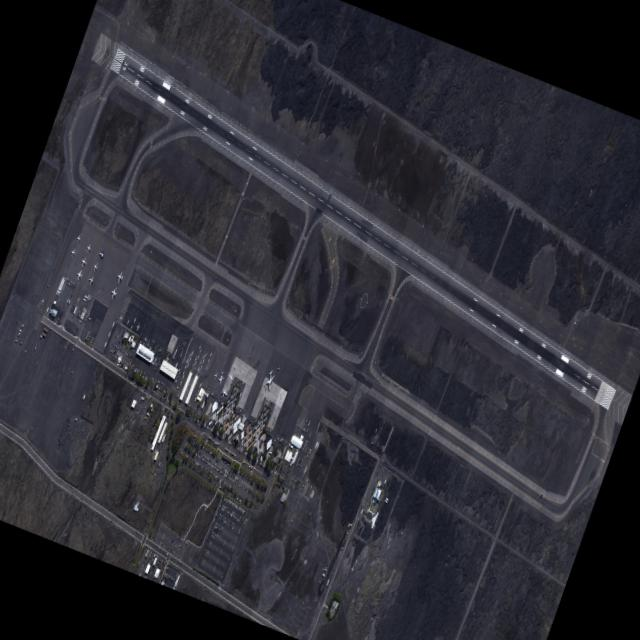large-vehicle: (75, 297, 78, 302)
plane: (263, 367, 274, 392), (217, 383, 228, 401), (214, 370, 224, 388), (107, 284, 117, 301), (224, 367, 234, 384), (95, 246, 105, 262), (113, 269, 123, 284), (78, 255, 86, 268), (74, 269, 82, 282), (90, 261, 97, 273), (86, 274, 93, 286), (68, 247, 75, 258), (84, 242, 90, 254), (74, 233, 80, 243), (211, 371, 217, 380), (134, 322, 138, 331), (39, 297, 43, 305), (131, 316, 135, 323), (125, 318, 128, 324), (187, 352, 190, 358), (180, 373, 183, 379), (129, 324, 132, 330), (190, 362, 193, 368), (208, 351, 211, 357), (189, 350, 192, 356), (192, 360, 195, 366), (198, 363, 201, 369), (200, 357, 203, 363), (196, 366, 199, 372), (197, 344, 200, 350), (197, 348, 200, 354), (195, 353, 198, 359), (187, 356, 190, 361), (185, 362, 188, 367), (185, 358, 188, 363), (182, 364, 185, 369), (180, 370, 183, 375), (178, 380, 181, 385), (206, 358, 209, 363), (193, 356, 196, 361), (198, 360, 201, 365), (203, 352, 205, 357), (201, 354, 203, 359)
ship: (266, 429, 269, 433), (280, 437, 282, 442), (279, 437, 281, 442), (268, 429, 270, 434), (281, 438, 283, 442), (133, 367, 135, 371), (267, 429, 269, 433), (289, 484, 291, 487), (283, 488, 285, 491), (352, 519, 354, 522), (284, 465, 286, 468), (278, 444, 280, 447), (275, 449, 277, 452), (277, 443, 279, 446), (278, 438, 280, 441), (280, 456, 282, 459), (278, 461, 280, 464), (236, 530, 238, 533), (244, 519, 246, 522), (237, 451, 239, 454), (247, 465, 249, 468), (249, 466, 251, 469), (251, 480, 253, 483), (134, 367, 136, 370), (134, 370, 136, 373), (135, 369, 137, 372), (138, 392, 140, 395), (137, 391, 139, 394), (139, 370, 141, 373), (141, 371, 143, 374), (138, 370, 140, 373), (286, 479, 288, 481), (289, 483, 290, 487), (322, 576, 323, 580), (276, 450, 278, 452), (325, 580, 327, 582), (370, 514, 372, 516), (241, 510, 242, 514), (241, 461, 243, 463), (261, 466, 263, 468), (132, 383, 134, 385), (129, 381, 131, 383), (291, 485, 292, 488), (288, 483, 289, 486), (283, 487, 284, 490), (285, 489, 286, 492), (286, 495, 287, 498), (292, 498, 293, 501), (294, 496, 295, 499), (296, 501, 297, 504), (273, 439, 274, 442), (274, 439, 275, 442), (275, 449, 276, 452), (278, 444, 279, 447), (284, 465, 285, 468), (281, 438, 282, 441), (293, 462, 294, 465), (282, 464, 283, 467), (341, 550, 342, 553), (364, 516, 365, 519), (370, 513, 371, 516), (135, 371, 136, 374), (139, 392, 140, 395), (138, 392, 139, 395), (137, 370, 138, 373), (137, 369, 138, 372), (282, 487, 283, 489), (282, 475, 283, 477), (294, 488, 295, 490), (293, 487, 294, 489), (292, 486, 293, 488), (291, 485, 292, 487), (279, 473, 280, 475), (284, 489, 285, 491), (287, 503, 288, 505), (281, 474, 282, 476), (273, 439, 274, 441), (276, 450, 277, 452), (278, 444, 279, 446), (281, 462, 282, 464), (283, 465, 284, 467), (352, 520, 353, 522), (330, 572, 331, 574), (368, 519, 369, 521), (272, 439, 273, 441), (271, 442, 272, 444), (270, 446, 271, 448), (270, 448, 271, 450), (255, 491, 256, 493), (231, 554, 232, 556), (240, 452, 242, 453), (250, 488, 251, 490), (249, 479, 250, 481), (252, 481, 253, 483), (256, 463, 258, 464), (254, 462, 255, 464), (266, 455, 267, 457), (134, 402, 136, 403), (135, 400, 136, 402), (139, 387, 140, 389), (137, 386, 138, 388), (130, 382, 132, 383), (132, 382, 133, 384), (136, 373, 137, 375), (134, 403, 135, 404), (138, 387, 139, 388), (134, 384, 135, 385), (283, 488, 283, 490)
small-vehicle: (137, 373, 140, 379), (140, 375, 143, 381), (139, 375, 142, 380), (143, 376, 146, 381), (151, 553, 154, 558), (137, 373, 139, 379), (140, 375, 142, 381), (143, 376, 145, 382), (196, 455, 198, 459), (197, 451, 199, 455), (199, 465, 201, 469), (192, 459, 194, 463), (181, 405, 183, 409), (180, 404, 182, 408), (196, 412, 198, 416), (205, 456, 207, 460), (202, 446, 204, 450), (202, 459, 204, 463), (135, 408, 137, 412), (162, 390, 164, 394), (162, 390, 164, 394), (161, 389, 163, 393), (155, 385, 157, 389), (154, 384, 156, 388), (213, 525, 215, 529), (219, 525, 221, 529), (226, 519, 228, 523), (220, 526, 222, 530), (218, 518, 220, 522), (225, 518, 227, 522), (148, 554, 150, 558), (162, 565, 164, 569), (231, 474, 233, 478), (218, 457, 220, 461), (220, 472, 222, 476), (225, 507, 227, 511), (245, 489, 247, 493), (232, 487, 234, 491), (197, 451, 199, 454), (195, 454, 197, 457), (198, 451, 200, 454), (193, 453, 195, 456), (194, 449, 196, 452), (192, 452, 194, 455), (198, 444, 200, 447), (197, 443, 199, 446), (195, 441, 197, 444), (198, 464, 200, 467), (196, 463, 198, 466), (195, 462, 197, 465), (190, 459, 192, 462), (194, 461, 196, 464), (193, 460, 195, 463), (193, 460, 195, 463), (191, 459, 193, 462), (194, 441, 196, 444), (195, 412, 197, 415), (194, 393, 196, 396), (175, 402, 177, 405), (175, 401, 177, 404), (189, 457, 191, 460), (184, 454, 186, 457), (201, 466, 203, 469), (211, 465, 213, 468), (210, 465, 212, 468), (205, 469, 207, 472), (212, 466, 214, 469), (208, 459, 210, 462), (211, 473, 213, 476), (210, 472, 212, 475), (209, 472, 211, 475), (204, 456, 206, 459), (204, 448, 206, 451), (206, 449, 208, 452), (205, 449, 207, 452), (203, 447, 205, 450), (201, 446, 203, 449), (200, 458, 202, 461), (201, 459, 203, 462), (201, 459, 203, 462), (204, 468, 206, 471), (203, 468, 205, 471), (207, 463, 209, 466), (206, 462, 208, 465), (205, 461, 207, 464), (136, 408, 138, 411), (138, 419, 140, 422), (140, 411, 142, 414), (140, 393, 142, 396), (156, 380, 158, 383), (159, 389, 161, 392), (154, 385, 156, 388), (154, 385, 156, 388), (160, 382, 162, 385), (159, 381, 161, 384), (216, 528, 218, 531), (211, 531, 213, 534), (211, 536, 213, 539), (213, 533, 215, 536), (214, 534, 216, 537), (215, 527, 217, 530), (209, 534, 211, 537), (215, 527, 217, 530), (214, 526, 216, 529), (214, 522, 216, 525), (216, 524, 218, 527), (210, 531, 212, 534), (206, 543, 208, 546), (218, 525, 220, 528), (172, 544, 174, 547), (208, 541, 210, 544), (179, 538, 181, 541), (184, 542, 186, 545), (230, 515, 232, 518), (231, 515, 233, 518), (229, 514, 231, 517), (228, 513, 230, 516), (226, 511, 228, 514), (236, 519, 238, 522), (228, 525, 230, 528), (223, 521, 225, 524), (217, 513, 219, 516), (220, 515, 222, 518), (224, 518, 226, 521), (176, 544, 178, 547), (177, 544, 179, 547), (150, 558, 152, 561), (152, 553, 154, 556), (178, 549, 180, 552), (152, 576, 154, 579), (157, 567, 159, 570), (156, 566, 158, 569), (165, 547, 167, 550), (164, 552, 166, 555), (177, 555, 179, 558), (157, 541, 159, 544), (144, 562, 146, 565), (138, 571, 140, 574), (222, 509, 224, 512), (225, 471, 227, 474), (220, 479, 222, 482), (227, 477, 229, 480), (226, 476, 228, 479), (225, 476, 227, 479), (224, 475, 226, 478), (224, 475, 226, 478), (239, 472, 241, 475), (234, 477, 236, 480), (232, 476, 234, 479), (228, 478, 230, 481), (228, 485, 230, 488), (230, 479, 232, 482), (227, 484, 229, 487), (223, 474, 225, 477), (225, 463, 227, 466), (223, 461, 225, 464), (222, 473, 224, 476), (219, 459, 221, 462), (217, 457, 219, 460), (217, 456, 219, 459), (231, 467, 233, 470), (221, 473, 223, 476), (220, 472, 222, 475), (221, 468, 223, 471), (219, 471, 221, 474), (218, 470, 220, 473), (217, 470, 219, 473), (216, 470, 218, 473), (215, 468, 217, 471), (234, 482, 236, 485), (221, 508, 223, 511), (224, 506, 226, 509), (220, 508, 222, 511), (226, 508, 228, 511), (228, 509, 230, 512), (229, 510, 231, 513), (231, 511, 233, 514), (234, 507, 236, 510), (232, 512, 234, 515), (235, 514, 237, 517), (238, 516, 240, 519), (221, 504, 223, 507), (235, 497, 237, 500), (238, 499, 240, 502), (248, 478, 250, 481), (239, 486, 241, 489), (238, 485, 240, 488), (235, 482, 237, 485), (240, 510, 242, 513), (226, 501, 228, 504), (231, 504, 233, 507), (232, 505, 234, 508), (233, 505, 235, 508), (197, 464, 199, 466), (148, 438, 149, 442), (193, 408, 195, 410), (184, 417, 186, 419), (178, 451, 180, 453), (187, 457, 189, 459), (180, 452, 182, 454), (200, 401, 202, 403), (206, 458, 208, 460), (199, 457, 200, 461), (213, 467, 215, 469), (208, 471, 210, 473), (204, 457, 206, 459), (202, 455, 204, 457), (199, 458, 201, 460), (204, 461, 206, 463), (175, 386, 177, 388), (142, 389, 144, 391), (143, 390, 145, 392), (157, 381, 159, 383), (141, 417, 143, 419), (156, 387, 158, 389), (158, 381, 160, 383), (156, 386, 157, 390), (218, 436, 220, 438), (218, 529, 219, 533), (217, 528, 218, 532), (215, 524, 217, 526), (173, 545, 175, 547), (170, 540, 172, 542), (178, 538, 180, 540), (209, 430, 211, 432), (228, 513, 230, 515), (227, 513, 229, 515), (225, 511, 227, 513), (220, 526, 221, 530), (221, 515, 222, 519), (153, 565, 155, 567), (147, 575, 149, 577), (154, 554, 156, 556), (148, 572, 150, 574), (147, 558, 149, 560), (152, 573, 154, 575), (156, 559, 158, 561), (150, 567, 152, 569), (148, 563, 150, 565), (148, 576, 150, 578), (149, 570, 151, 572), (161, 561, 163, 563), (175, 572, 177, 574), (180, 547, 182, 549), (156, 547, 158, 549), (224, 511, 226, 513), (218, 486, 220, 488), (235, 478, 237, 480), (237, 471, 239, 473), (214, 443, 216, 445), (212, 442, 214, 444), (236, 478, 238, 480), (217, 505, 219, 507), (212, 518, 214, 520), (219, 500, 221, 502), (208, 529, 210, 531), (247, 490, 248, 494), (248, 477, 249, 481), (243, 487, 244, 491), (227, 502, 229, 504), (195, 454, 196, 457), (197, 450, 198, 453), (198, 456, 199, 459), (197, 456, 198, 459), (197, 455, 198, 458), (196, 455, 197, 458), (195, 454, 196, 457), (194, 454, 195, 457), (194, 454, 195, 457), (199, 444, 200, 447), (198, 443, 199, 446), (199, 452, 200, 455), (194, 440, 195, 443), (201, 465, 202, 468), (199, 465, 200, 468), (198, 464, 199, 467), (198, 464, 199, 467), (197, 463, 198, 466), (196, 463, 197, 466), (195, 462, 196, 465), (192, 459, 193, 462), (191, 459, 192, 462), (169, 436, 170, 439), (161, 489, 162, 492), (154, 451, 155, 454), (153, 450, 154, 453), (151, 451, 152, 454), (172, 399, 173, 402), (196, 412, 197, 415), (190, 458, 191, 461), (188, 457, 189, 460), (187, 456, 188, 459), (196, 412, 197, 415), (184, 442, 185, 445), (179, 451, 180, 454), (201, 466, 202, 469), (202, 467, 203, 470), (212, 466, 213, 469), (211, 465, 212, 468), (210, 465, 211, 468), (210, 464, 211, 467), (206, 469, 207, 472), (206, 469, 207, 472), (205, 469, 206, 472), (210, 460, 211, 463), (209, 459, 210, 462), (208, 459, 209, 462), (207, 458, 208, 461), (207, 457, 208, 460), (206, 457, 207, 460), (212, 466, 213, 469), (213, 467, 214, 470), (213, 462, 214, 465), (214, 454, 215, 457), (214, 467, 215, 470), (215, 463, 216, 466), (214, 463, 215, 466), (214, 462, 215, 465), (208, 470, 209, 473), (212, 461, 213, 464), (212, 473, 213, 476), (211, 473, 212, 476), (211, 473, 212, 476), (209, 471, 210, 474), (209, 471, 210, 474), (201, 458, 202, 461), (202, 454, 203, 457), (209, 451, 210, 454), (209, 451, 210, 454), (208, 450, 209, 453), (204, 456, 205, 459), (205, 449, 206, 452), (200, 457, 201, 460), (202, 459, 203, 462), (204, 455, 205, 458), (203, 468, 204, 471), (208, 463, 209, 466), (207, 463, 208, 466), (207, 462, 208, 465), (206, 461, 207, 464), (205, 461, 206, 464), (204, 460, 205, 463), (203, 460, 204, 463), (138, 419, 139, 422), (143, 405, 144, 408), (157, 380, 158, 383), (136, 407, 137, 410), (138, 398, 139, 401), (160, 389, 161, 392), (158, 388, 159, 391), (158, 387, 159, 390), (157, 387, 158, 390), (155, 387, 156, 390), (162, 383, 163, 386), (213, 533, 214, 536), (213, 533, 214, 536), (214, 534, 215, 537), (219, 530, 220, 533), (215, 527, 216, 530), (214, 526, 215, 529), (213, 525, 214, 528), (215, 522, 216, 525), (177, 536, 178, 539), (174, 545, 175, 548), (170, 539, 171, 542), (171, 540, 172, 543), (173, 542, 174, 545), (175, 535, 176, 538), (180, 539, 181, 542), (181, 539, 182, 542), (182, 540, 183, 543), (184, 541, 185, 544), (184, 541, 185, 544), (185, 542, 186, 545), (217, 524, 218, 527), (229, 521, 230, 524), (230, 522, 231, 525), (231, 522, 232, 525), (232, 523, 233, 526), (235, 518, 236, 521), (234, 517, 235, 520), (234, 517, 235, 520), (233, 516, 234, 519), (230, 514, 231, 517), (228, 520, 229, 523), (230, 514, 231, 517), (227, 511, 228, 514), (229, 521, 230, 524), (220, 519, 221, 522), (237, 519, 238, 522), (229, 525, 230, 528), (223, 520, 224, 523), (223, 520, 224, 523), (222, 520, 223, 523), (220, 519, 221, 522), (226, 519, 227, 522), (218, 514, 219, 517), (219, 514, 220, 517), (223, 517, 224, 520), (224, 517, 225, 520), (177, 548, 178, 551), (152, 553, 153, 556), (149, 554, 150, 557), (150, 554, 151, 557), (151, 552, 152, 555), (157, 575, 158, 578), (174, 576, 175, 579), (166, 547, 167, 550), (167, 548, 168, 551), (172, 580, 173, 583), (172, 551, 173, 554), (173, 552, 174, 555), (171, 550, 172, 553), (176, 561, 177, 564), (180, 550, 181, 553), (181, 547, 182, 550), (159, 543, 160, 546), (157, 541, 158, 544), (140, 569, 141, 572), (139, 571, 140, 574), (138, 573, 139, 576), (137, 573, 138, 576), (141, 563, 142, 566), (215, 475, 216, 478), (226, 483, 227, 486), (224, 481, 225, 484), (223, 481, 224, 484), (221, 480, 222, 483), (216, 476, 217, 479), (215, 476, 216, 479), (214, 475, 215, 478), (213, 475, 214, 478), (213, 474, 214, 477), (226, 476, 227, 479), (225, 475, 226, 478), (227, 477, 228, 480), (232, 475, 233, 478), (235, 477, 236, 480), (235, 477, 236, 480), (237, 470, 238, 473), (231, 486, 232, 489), (231, 479, 232, 482), (230, 479, 231, 482), (234, 468, 235, 471), (229, 478, 230, 481), (226, 484, 227, 487), (224, 474, 225, 477), (223, 473, 224, 476), (223, 460, 224, 463), (228, 464, 229, 467), (227, 463, 228, 466), (226, 463, 227, 466), (225, 462, 226, 465), (224, 461, 225, 464), (219, 458, 220, 461), (216, 456, 217, 459), (220, 467, 221, 470), (215, 468, 216, 471), (224, 469, 225, 472), (221, 472, 222, 475), (222, 468, 223, 471), (220, 472, 221, 475), (219, 471, 220, 474), (219, 471, 220, 474), (218, 470, 219, 473), (217, 470, 218, 473), (216, 469, 217, 472), (215, 468, 216, 471), (224, 506, 225, 509), (224, 506, 225, 509), (223, 506, 224, 509), (222, 505, 223, 508), (237, 478, 238, 481), (234, 506, 235, 509), (225, 507, 226, 510), (231, 511, 232, 514), (231, 511, 232, 514), (233, 512, 234, 515), (236, 515, 237, 518), (220, 507, 221, 510), (244, 487, 245, 490), (149, 519, 150, 522), (153, 509, 154, 512), (230, 493, 231, 496), (250, 491, 251, 494), (222, 498, 223, 501), (241, 486, 242, 489), (243, 475, 244, 478), (240, 480, 241, 483), (238, 484, 239, 487), (236, 484, 237, 487), (232, 487, 233, 490), (144, 537, 145, 540), (239, 509, 240, 512), (223, 498, 224, 501), (224, 499, 225, 502), (226, 500, 227, 503), (227, 501, 228, 504), (228, 502, 229, 505), (229, 502, 230, 505), (230, 503, 231, 506), (232, 505, 233, 508), (234, 505, 235, 508), (234, 506, 235, 509), (237, 507, 238, 510), (238, 509, 239, 512), (151, 569, 152, 571), (197, 451, 198, 453), (198, 444, 199, 446), (196, 463, 197, 465), (194, 462, 195, 464), (194, 461, 195, 463), (192, 448, 193, 450), (179, 448, 180, 450), (194, 407, 195, 409), (193, 397, 194, 399), (182, 407, 183, 409), (177, 403, 178, 405), (154, 420, 156, 421), (152, 457, 153, 459), (167, 416, 168, 418), (185, 455, 186, 457), (187, 457, 188, 459), (201, 432, 202, 434), (207, 428, 208, 430), (203, 425, 204, 427), (206, 411, 207, 413), (197, 423, 198, 425), (199, 405, 200, 407), (200, 397, 201, 399), (209, 464, 210, 466), (210, 460, 211, 462), (209, 460, 210, 462), (206, 457, 207, 459), (216, 435, 217, 437), (215, 455, 216, 457), (214, 468, 215, 470), (213, 463, 214, 465), (212, 462, 213, 464), (206, 449, 207, 451), (203, 455, 204, 457), (208, 451, 209, 453), (202, 447, 203, 449), (202, 447, 203, 449), (201, 454, 202, 456), (203, 456, 204, 458), (203, 468, 204, 470), (202, 468, 203, 470), (206, 462, 207, 464), (204, 461, 205, 463), (203, 460, 204, 462), (152, 424, 154, 425), (151, 568, 153, 569), (144, 418, 145, 420), (142, 409, 143, 411), (139, 412, 140, 414), (142, 401, 143, 403), (142, 398, 143, 400), (138, 408, 139, 410), (141, 400, 142, 402), (138, 400, 139, 402), (157, 387, 158, 389), (159, 389, 160, 391), (160, 382, 161, 384), (217, 435, 218, 437), (213, 433, 214, 435), (219, 575, 220, 577), (168, 542, 169, 544), (170, 540, 171, 542), (179, 538, 180, 540), (232, 516, 233, 518), (229, 514, 230, 516), (228, 513, 229, 515), (217, 517, 218, 519), (149, 573, 151, 574), (152, 565, 154, 566), (153, 564, 155, 565), (155, 560, 156, 562), (155, 558, 156, 560), (147, 557, 148, 559), (149, 557, 150, 559), (154, 554, 155, 556), (156, 555, 157, 557), (155, 561, 156, 563), (152, 566, 153, 568), (154, 569, 155, 571), (156, 562, 157, 564), (149, 571, 150, 573), (157, 563, 158, 565), (150, 568, 151, 570), (148, 568, 149, 570), (148, 567, 149, 569), (157, 560, 158, 562), (164, 547, 165, 549), (174, 574, 175, 576), (175, 572, 176, 574), (173, 578, 174, 580), (175, 574, 176, 576), (170, 556, 171, 558), (160, 544, 161, 546), (160, 560, 161, 562), (161, 559, 163, 560), (142, 569, 143, 571), (141, 571, 142, 573), (141, 572, 142, 574), (141, 567, 142, 569), (142, 565, 143, 567), (138, 574, 139, 576), (138, 574, 139, 576), (138, 571, 139, 573), (139, 569, 140, 571), (140, 567, 141, 569), (225, 511, 226, 513), (222, 481, 223, 483), (214, 476, 215, 478), (213, 476, 214, 478), (229, 473, 230, 475), (234, 482, 235, 484), (234, 482, 235, 484), (233, 481, 234, 483), (227, 484, 228, 486), (230, 466, 231, 468), (228, 464, 229, 466), (223, 461, 224, 463), (222, 461, 223, 463), (220, 460, 221, 462), (215, 434, 216, 436), (220, 467, 221, 469), (223, 469, 224, 471), (216, 469, 217, 471), (214, 515, 215, 517), (214, 514, 216, 515), (215, 512, 216, 514), (215, 511, 216, 513), (216, 510, 217, 512), (216, 508, 217, 510), (217, 507, 218, 509), (217, 506, 218, 508), (218, 504, 219, 506), (211, 522, 213, 523), (218, 503, 220, 504), (220, 499, 221, 501), (222, 506, 223, 508), (229, 510, 230, 512), (238, 516, 239, 518), (198, 576, 200, 577), (206, 536, 207, 538), (221, 505, 222, 507), (240, 510, 241, 512), (223, 499, 224, 501), (226, 501, 227, 503), (229, 503, 230, 505), (230, 504, 231, 506), (189, 420, 190, 421), (205, 427, 206, 428), (179, 460, 180, 461), (139, 406, 140, 407), (154, 562, 155, 563), (146, 559, 147, 560), (155, 555, 156, 556), (158, 557, 159, 558), (148, 574, 149, 575), (147, 570, 148, 571), (158, 561, 159, 562), (160, 562, 161, 563), (145, 561, 146, 562), (213, 517, 214, 518), (219, 502, 220, 503), (212, 520, 213, 521), (209, 528, 210, 529), (205, 538, 206, 539), (207, 533, 208, 534), (184, 454, 184, 456), (147, 571, 147, 573)
